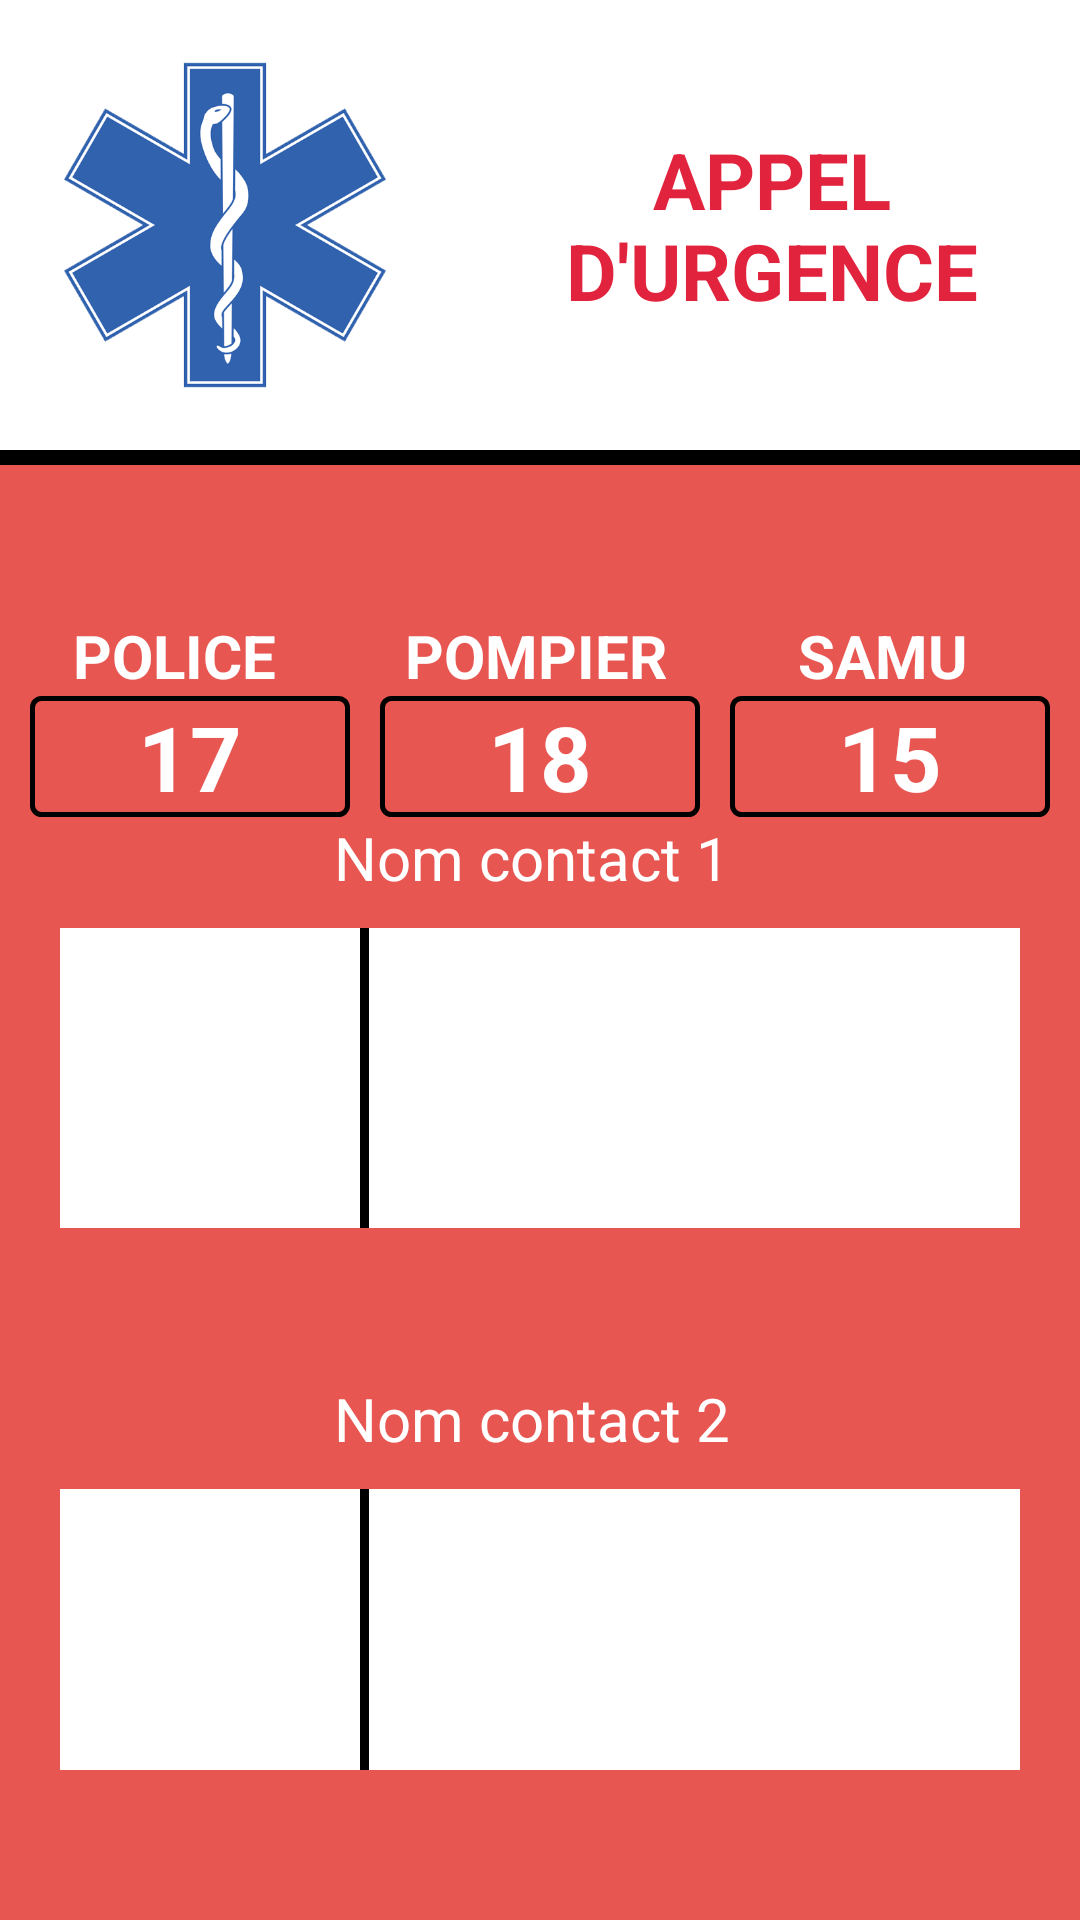

Named icons in this screenshot (1080 x 1920) and their centers, (x=x, y=y):
item appel urgence: (x=225, y=225)
